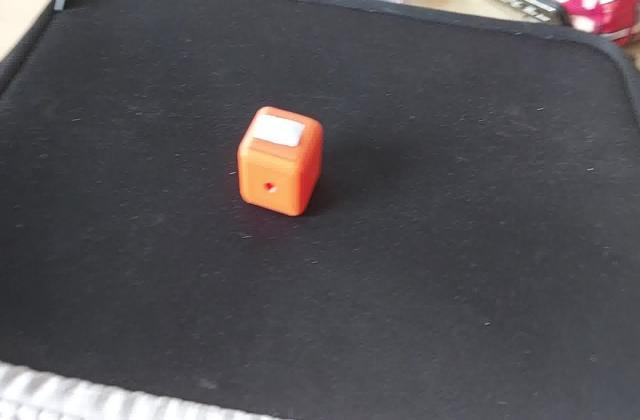sticker: (235, 102, 326, 222)
white: (258, 118, 308, 152)
